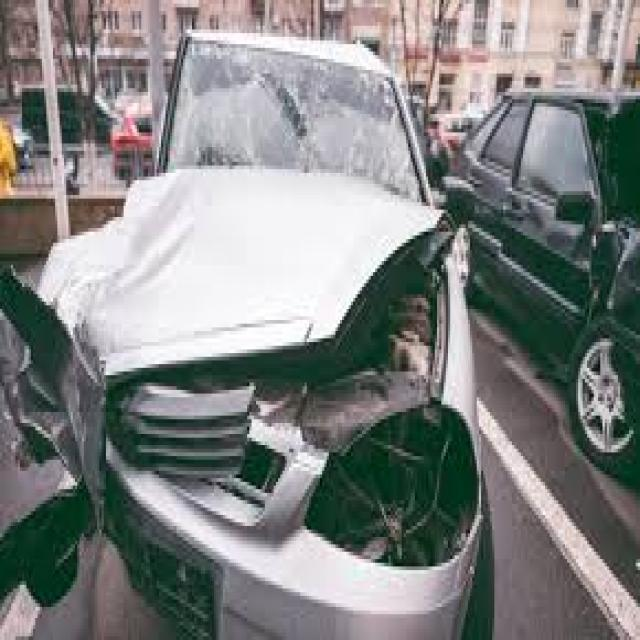severe: (11, 6, 510, 640)
